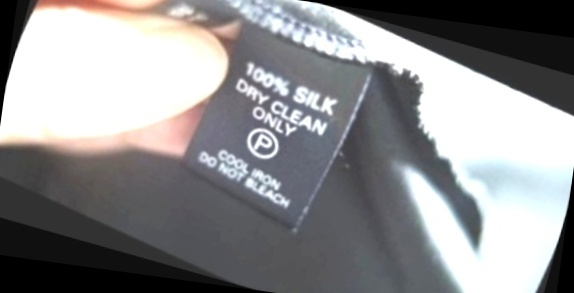dry_clean_any_solvent_except_trichloroethylene: (233, 113, 295, 174)
